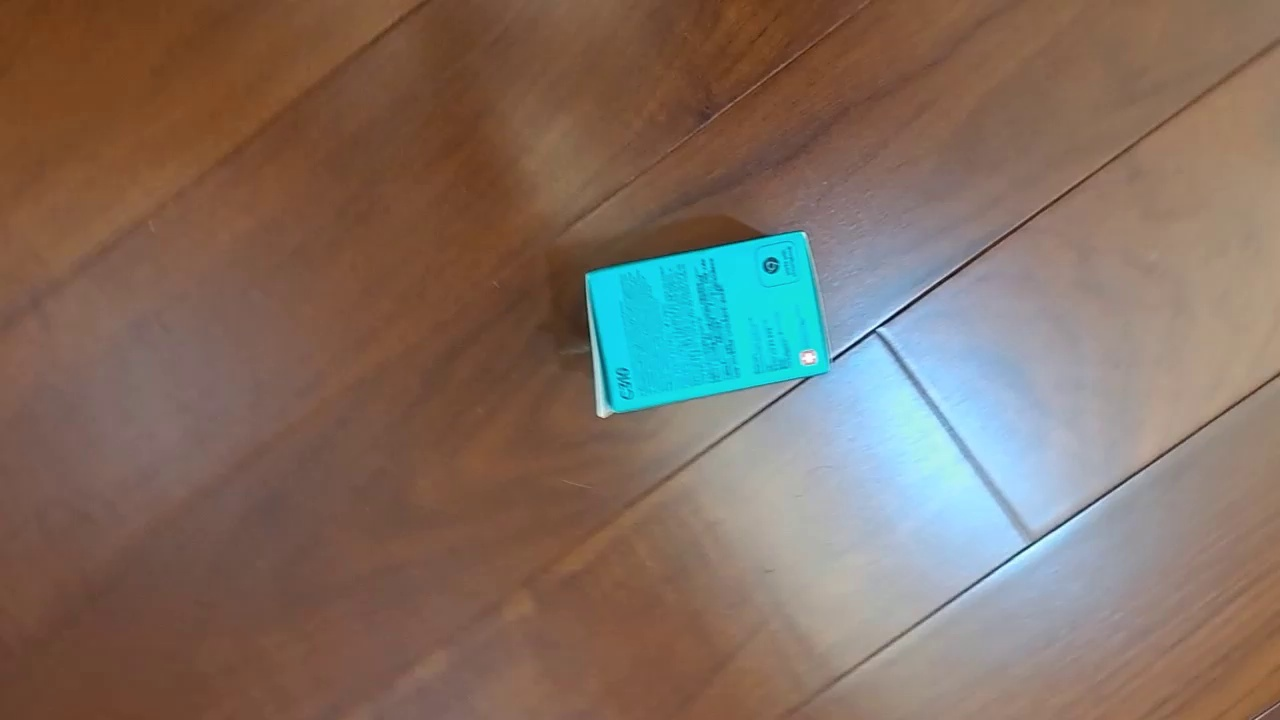webcam: (584, 230, 834, 420)
